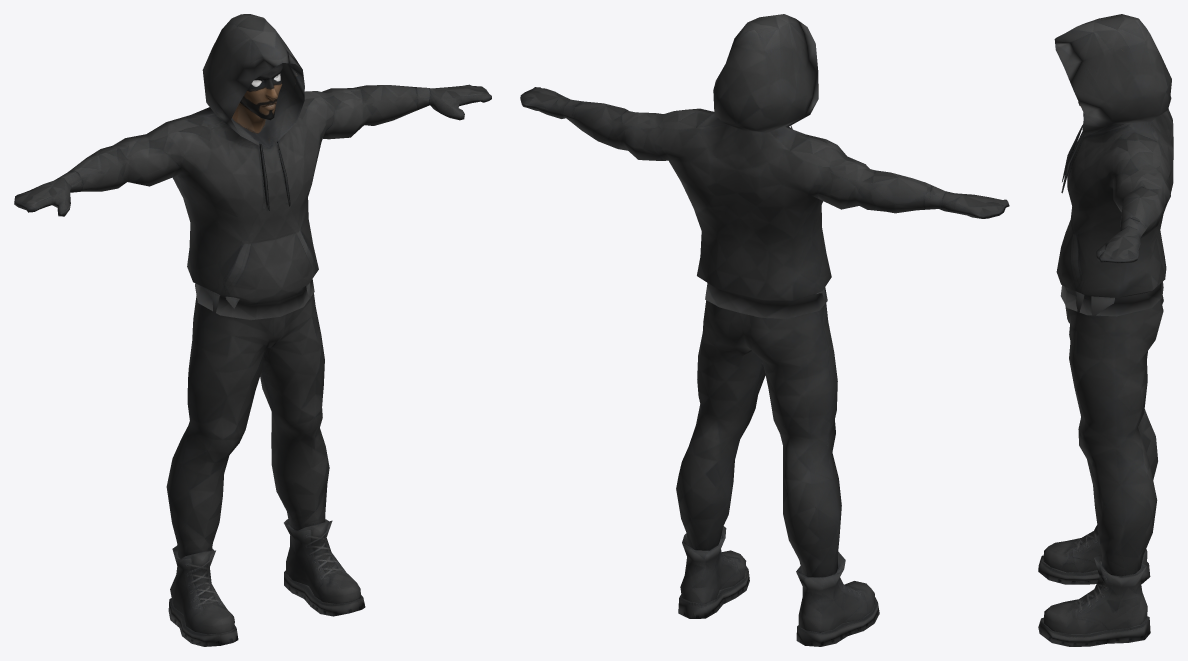
The model's file is hero_starter_suit_original.glb.
The picture shows the model from 3 angles, left to right: view 1: azimuth 30°, elevation 25°; view 2: azimuth 150°, elevation 25°; view 3: azimuth 270°, elevation 25°; orthographic projection. The views are drawn at different scales.
Size of the model in its own units: 0.8359 by 1 by 0.209.
1 material, 1 textured.
